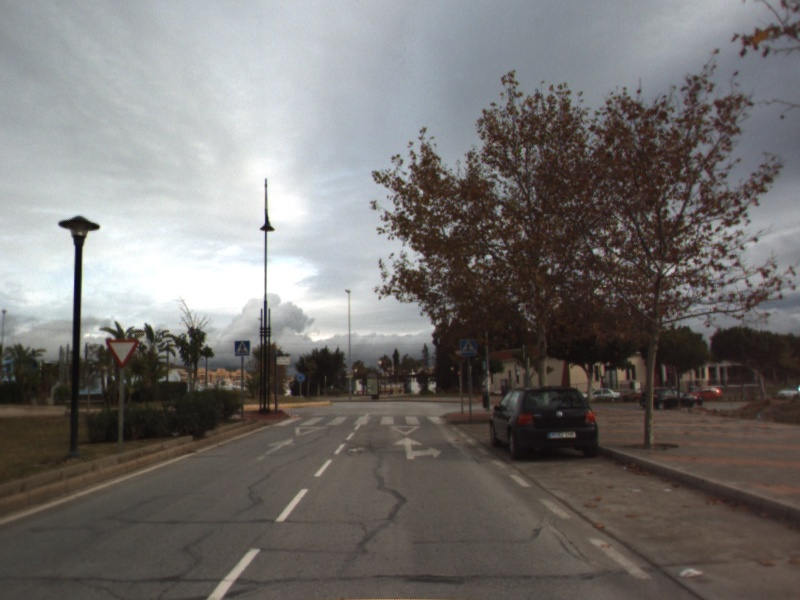STRAIGHT: (253, 435, 297, 463)
STRAIGHT_RIGHT: (391, 435, 444, 461)
